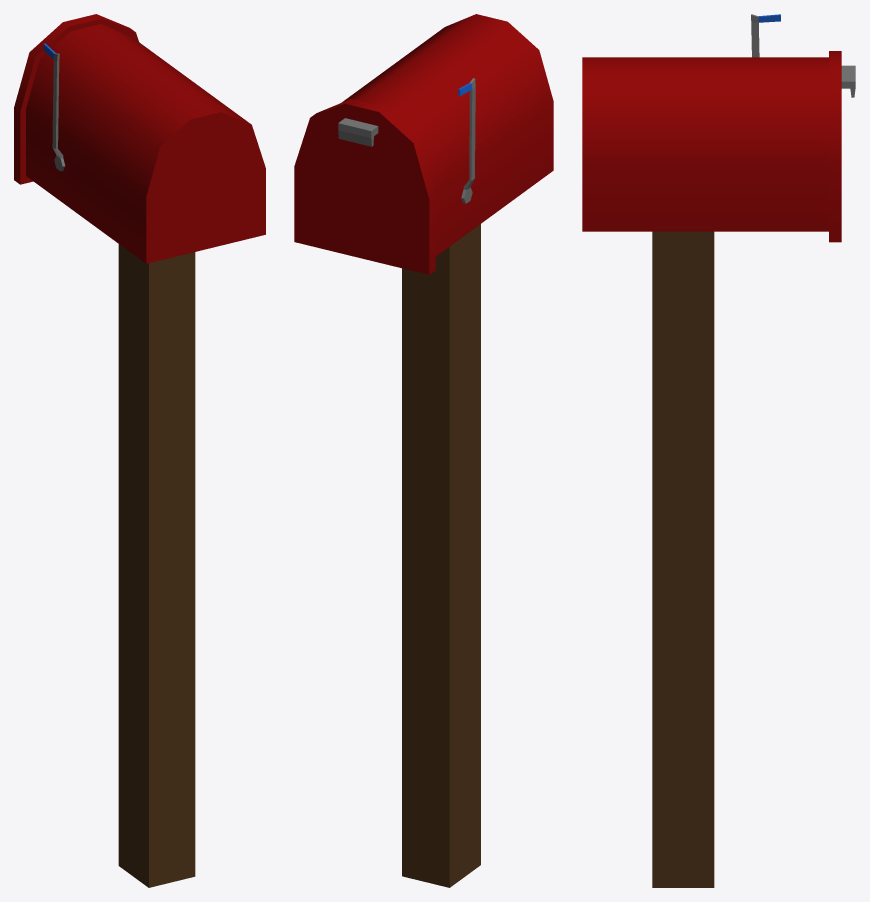
The model's file is PostalBox_1.fbx.
3 renders of one model, left to right at view 1: azimuth 30°, elevation 25°; view 2: azimuth 150°, elevation 25°; view 3: azimuth 270°, elevation 25°, orthographic. The views are drawn at different scales.
Visible parts, largest first — view 1: PostalBox_1; view 2: PostalBox_1; view 3: PostalBox_1.
Part boxes in pixels (left/top/right/bottom): PostalBox_1: left=14, top=14, right=265, bottom=887; PostalBox_1: left=294, top=14, right=553, bottom=887; PostalBox_1: left=582, top=14, right=855, bottom=887.
Bounding box in the file's own units: 0.2423 × 0.4224 × 1.42.
